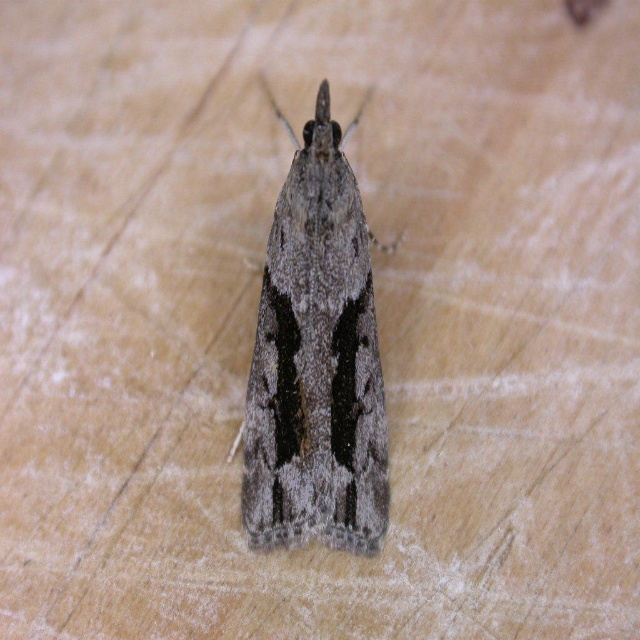Moths and butterflies: (226, 71, 412, 554)
